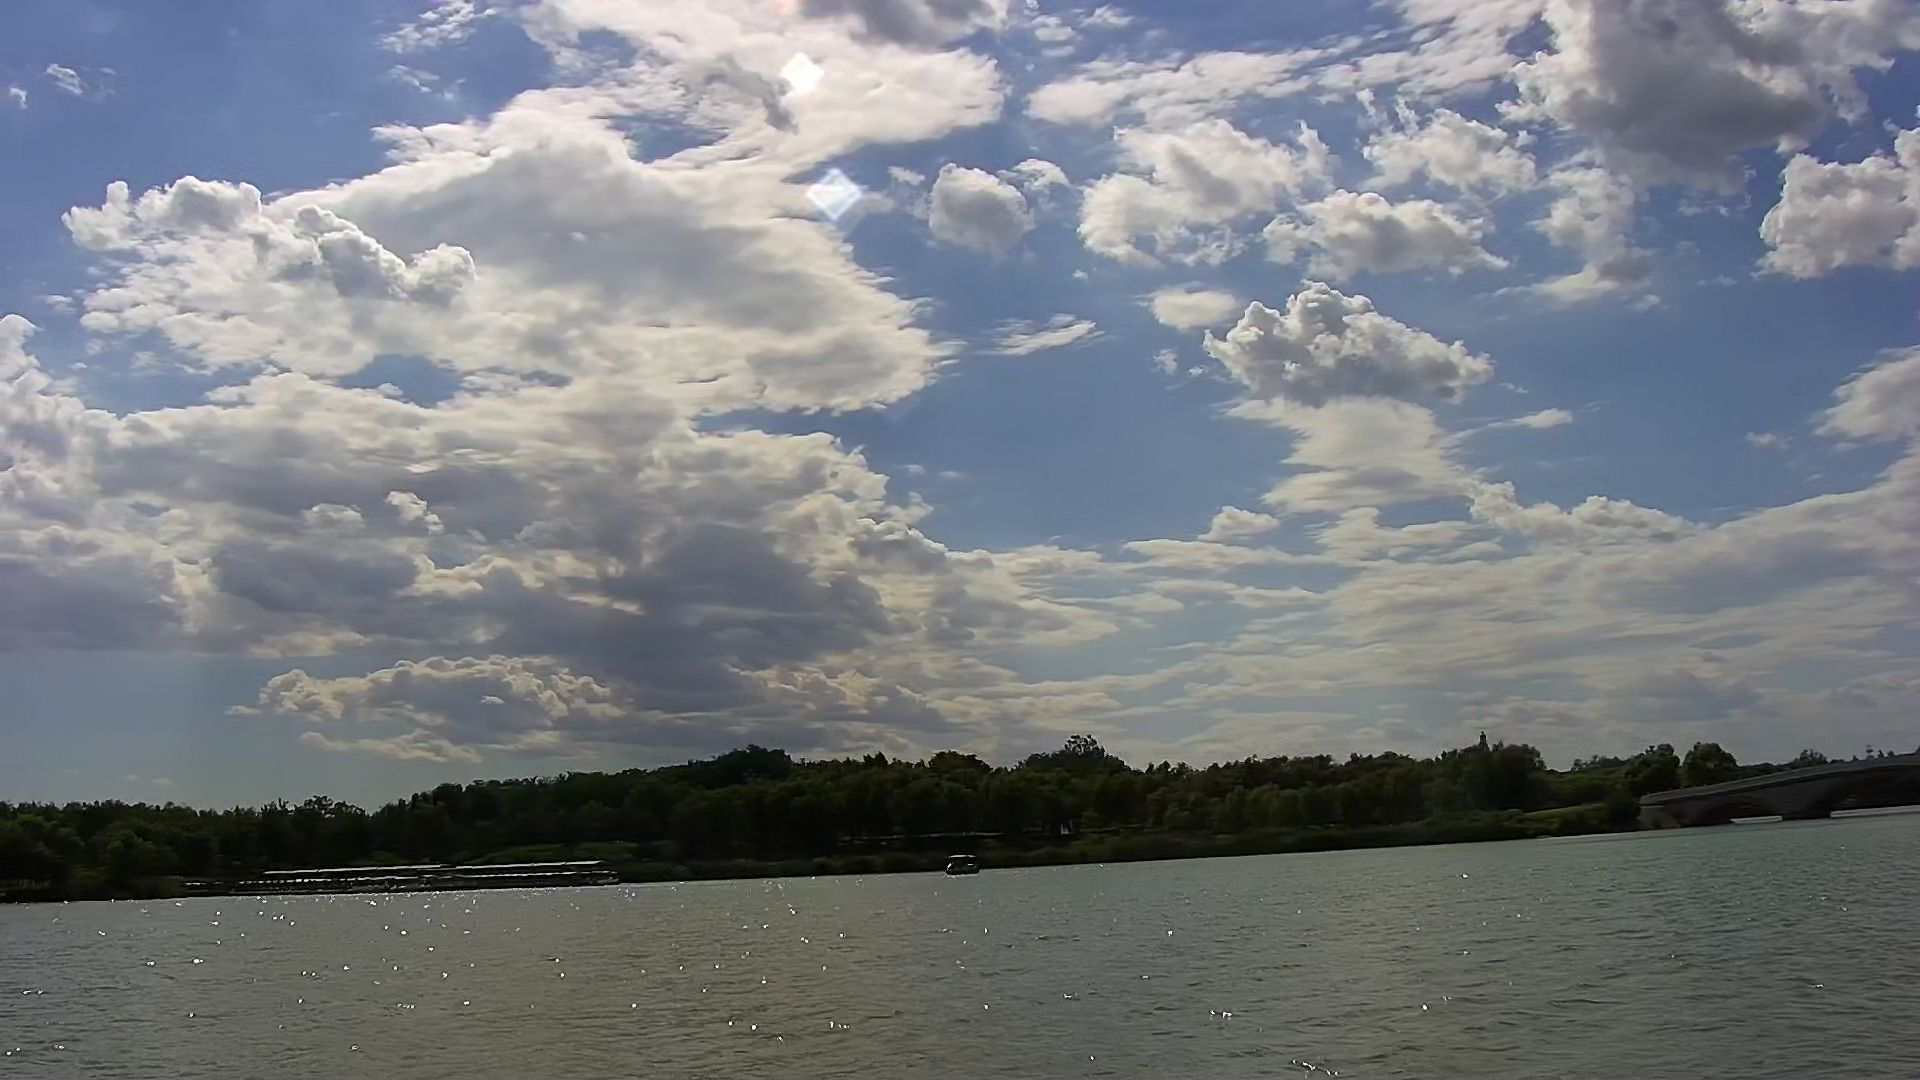boat: (938, 847, 978, 882)
bridge: (1633, 752, 1920, 825)
harbor: (264, 852, 609, 895)
